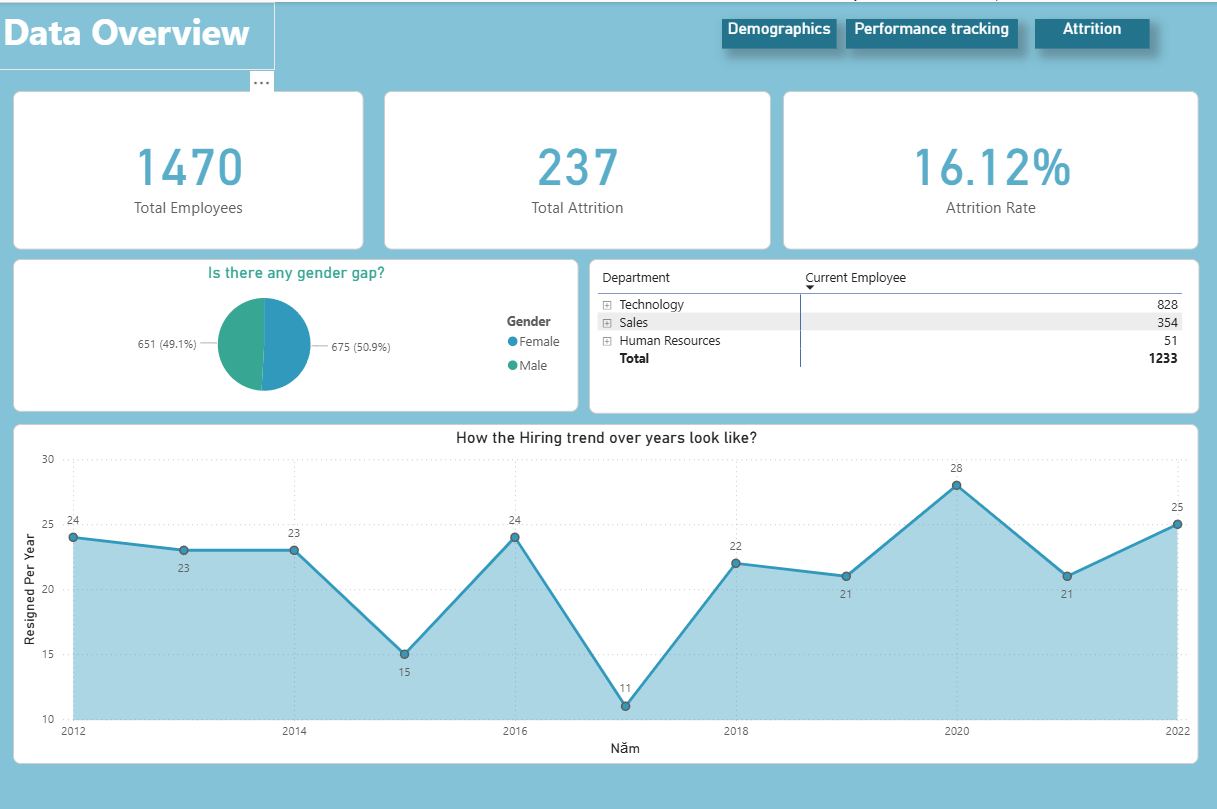

The dashboard page shown, as its layout file describes it:
{"tool":"powerbi","page":{"name":"Data Overviewing","canvas":[1280,850],"ordinal":0},"visuals":[{"type":"card","fields":{"Values":["Count(Employee.EmployeeID)"]},"box":[15.8,93.1,367.1,166],"z":0},{"type":"pieChart","title":"Is there any gender gap?","fields":{"Category":["Employee.Gender"],"Y":["CountNonNull(Employee.EmployeeID)"]},"box":[15.6,269,591.9,159.7],"z":1000},{"type":"card","fields":{"Values":["Calculations.AttritionCount"]},"box":[404,93.1,405.3,166],"z":2000},{"type":"card","fields":{"Values":["Calculations.AttritionRate"]},"box":[821.4,93.1,435.5,166],"z":3000},{"type":"lineChart","title":"How the Hiring trend over years look like?","fields":{"Y":["Calculations.ResignedPerYear"],"Category":["Employee.HireDate.Biến động.Phân cấp ngày tháng.Năm"]},"box":[15.8,442.1,1241.1,356],"z":4000},{"type":"pivotTable","fields":{"Rows":["Employee.Department","Employee.JobRole"],"Values":["Calculations.ActiveEmployee"]},"box":[618.3,269,638.8,161.5],"z":5000},{"type":"actionButton","title":"Demographics","box":[757.9,17.8,119.7,31],"z":6000},{"type":"actionButton","title":"Performance tracking","box":[887.6,17.8,179.6,31],"z":7000},{"type":"actionButton","title":"Attrition","box":[1086,17.8,119.7,31],"z":8000},{"type":"textbox","box":[0,0,290,71.2],"z":8001}]}

Visuals, with their boxes in screenshot pixels (x1, y1, x2, y2), scaled from the page's 1280x850 canvas onto the 1217x809 screenshot:
card - Count(Employee.EmployeeID): bbox(15, 89, 364, 247)
"Is there any gender gap?" pieChart: bbox(15, 256, 578, 408)
card - Calculations.AttritionCount: bbox(384, 89, 769, 247)
card - Calculations.AttritionRate: bbox(781, 89, 1195, 247)
"How the Hiring trend over years look like?" lineChart: bbox(15, 421, 1195, 760)
pivotTable - Employee.Department x Employee.JobRole: bbox(588, 256, 1195, 410)
"Demographics" actionButton: bbox(721, 17, 834, 46)
"Performance tracking" actionButton: bbox(844, 17, 1015, 46)
"Attrition" actionButton: bbox(1033, 17, 1146, 46)
textbox: bbox(0, 0, 276, 68)
